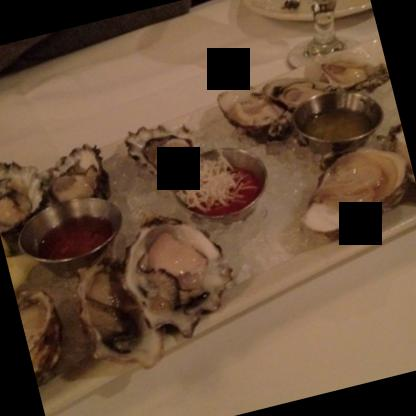oyster: (112, 207, 240, 346), (286, 138, 416, 242), (216, 72, 294, 152), (117, 117, 198, 187), (40, 138, 112, 210), (315, 43, 392, 106), (0, 148, 50, 230), (389, 120, 415, 211)
